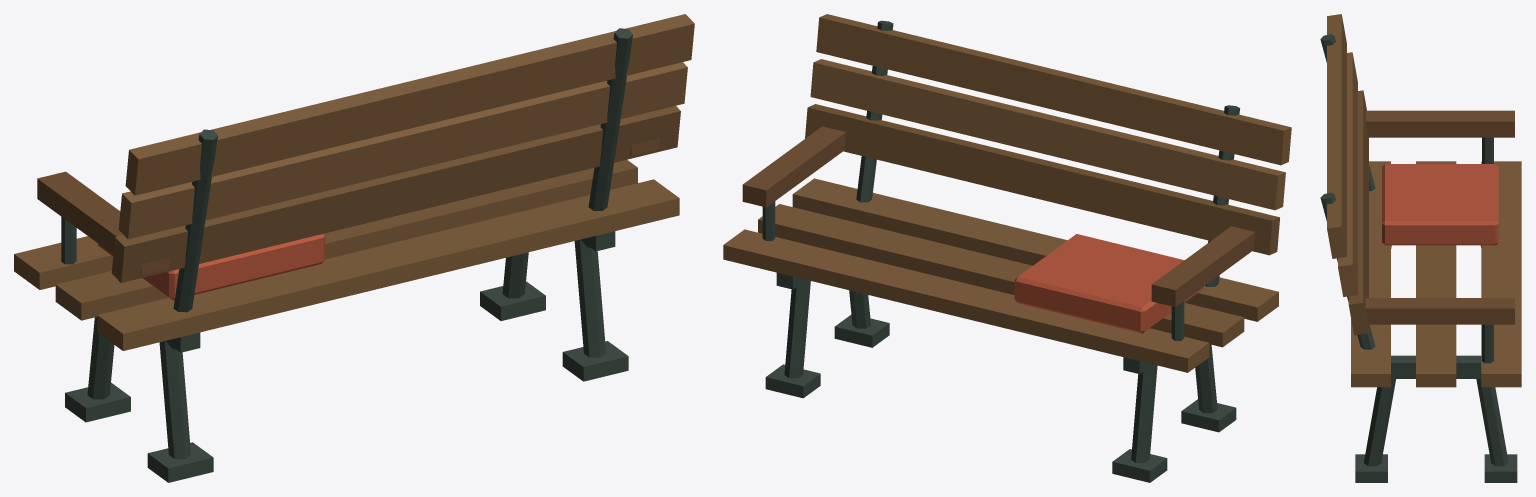
File: SM_Bench_L2.glb
The picture shows the model from 3 angles, left to right: view 1: azimuth 30°, elevation 25°; view 2: azimuth 150°, elevation 25°; view 3: azimuth 270°, elevation 25°; orthographic projection. The views are drawn at different scales.
Visible parts, largest first — view 1: SM_Bench, SM_BenchCushion; view 2: SM_Bench, SM_BenchCushion; view 3: SM_Bench, SM_BenchCushion.
Part boxes in pixels (box(x1,y1,x2,y2)): SM_Bench: box(14, 14, 694, 482); SM_BenchCushion: box(98, 234, 325, 300); SM_Bench: box(723, 14, 1291, 482); SM_BenchCushion: box(1014, 234, 1204, 333); SM_Bench: box(1320, 14, 1521, 482); SM_BenchCushion: box(1382, 164, 1498, 245).
Bounding box in the file's own units: 1.85 × 1.14 × 0.7402.
